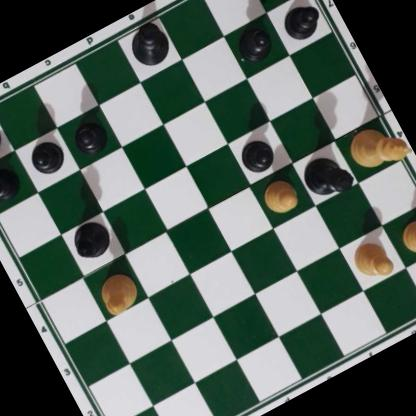black-bishop: (63, 213, 118, 265)
black-king: (120, 16, 176, 74)
black-pawn: (275, 0, 325, 46), (230, 21, 277, 67), (234, 132, 279, 177), (24, 136, 67, 180), (67, 114, 110, 158), (0, 160, 22, 205)
black-queen: (296, 143, 359, 208)
black-rook: (0, 107, 8, 168), (249, 0, 309, 2)
white-bishop: (93, 269, 143, 318)
white-king: (343, 116, 411, 179)
white-pawn: (346, 234, 397, 286), (256, 172, 303, 219), (395, 212, 416, 263)
